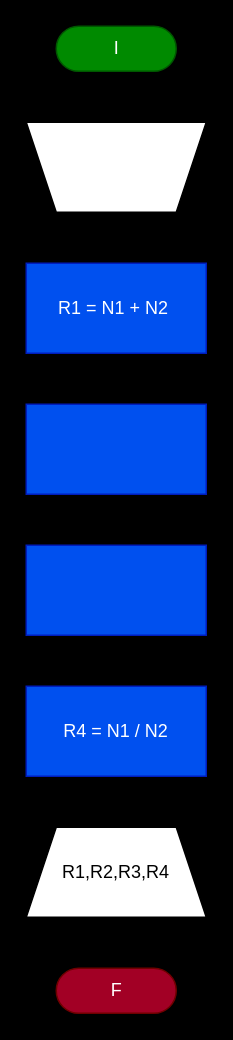
The diagram is 233 pixels wide and 1040 high, and some of its shapes have lost their labels. Each missing label, with the centre of its shape:
N1 , N2: the point at 115,166
R2 = N1 - N2: the point at 115,448
R3 = N1 * N2: the point at 115,589
